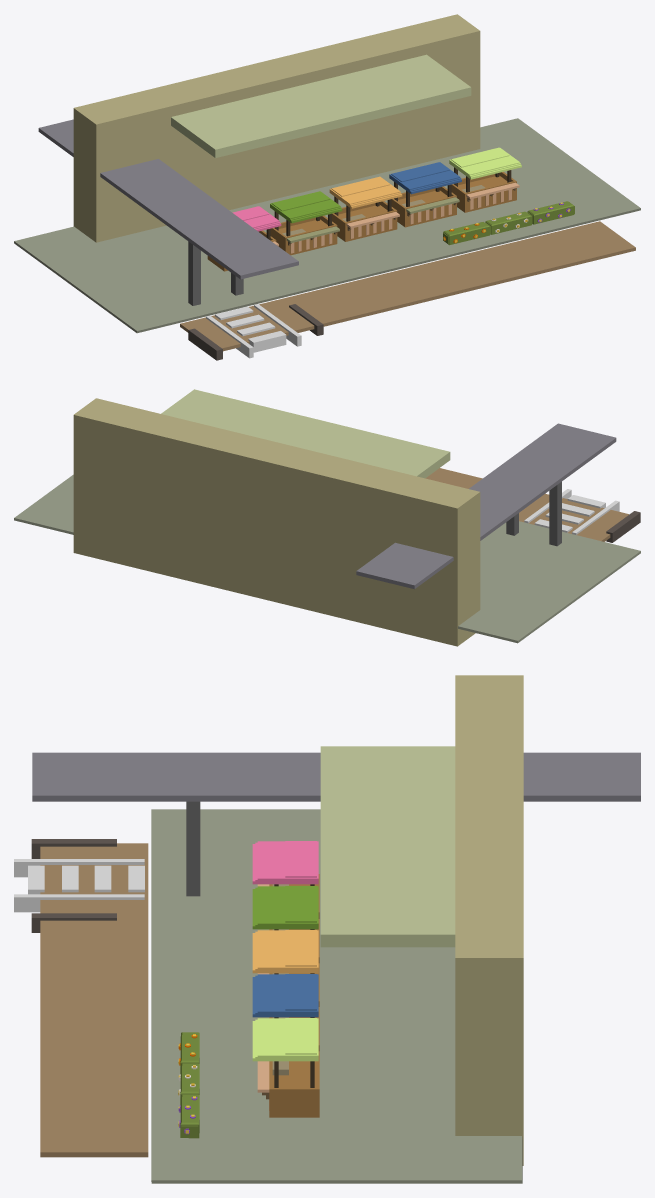
Rendered from yatai4.glb.
3 views of the same model, one above another, from view 1: azimuth 30°, elevation 25°; view 2: azimuth 150°, elevation 25°; view 3: azimuth 270°, elevation 25° (orthographic). The views are drawn at different scales.
Parts seen in each view (by area): view 1: 立方体, 平面, 立方体.007, 立方体.003, 立方体.001, yata3, yata4, yata5, yata2, yata1, 立方体.006, 立方体.128 (+4 smaller); view 2: 立方体, 平面, 立方体.001, 立方体.003, 立方体.007, 立方体.006, 立方体.015; view 3: 平面, 立方体, 立方体.007, 立方体.003, 立方体.001, yata5, yata1, yata2, yata4, yata3, 立方体.002, 立方体.013 (+4 smaller).
Part boxes in pixels (x1=…): 立方体: x1=73, y1=14, x2=480, y2=242; 平面: x1=14, y1=118, x2=640, y2=333; 立方体.007: x1=180, y1=221, x2=635, y2=351; 立方体.003: x1=171, y1=54, x2=471, y2=157; 立方体.001: x1=38, y1=119, x2=298, y2=279; yata3: x1=329, y1=176, x2=402, y2=241; yata4: x1=389, y1=162, x2=461, y2=227; yata5: x1=449, y1=147, x2=521, y2=212; yata2: x1=270, y1=191, x2=342, y2=255; yata1: x1=207, y1=206, x2=281, y2=271; 立方体.006: x1=188, y1=241, x2=200, y2=305; 立方体.128: x1=443, y1=222, x2=490, y2=245; 立方体: x1=73, y1=398, x2=480, y2=646; 平面: x1=14, y1=474, x2=640, y2=643; 立方体.001: x1=356, y1=423, x2=616, y2=589; 立方体.003: x1=161, y1=389, x2=450, y2=478; 立方体.007: x1=425, y1=468, x2=628, y2=541; 立方体.006: x1=549, y1=481, x2=561, y2=546; 立方体.015: x1=606, y1=511, x2=640, y2=542; 平面: x1=151, y1=809, x2=522, y2=1183; 立方体: x1=455, y1=675, x2=523, y2=1165; 立方体.007: x1=40, y1=843, x2=148, y2=1157; 立方体.003: x1=320, y1=746, x2=455, y2=947; 立方体.001: x1=32, y1=752, x2=640, y2=801; yata5: x1=252, y1=1018, x2=319, y2=1117; yata1: x1=252, y1=841, x2=319, y2=918; yata2: x1=252, y1=886, x2=319, y2=963; yata4: x1=252, y1=974, x2=319, y2=1051; yata3: x1=252, y1=930, x2=319, y2=1006; 立方体.002: x1=186, y1=801, x2=200, y2=896; 立方体.013: x1=14, y1=894, x2=144, y2=912.
Bounding box in the file's own units: 72.69 × 19.04 × 51.94.
